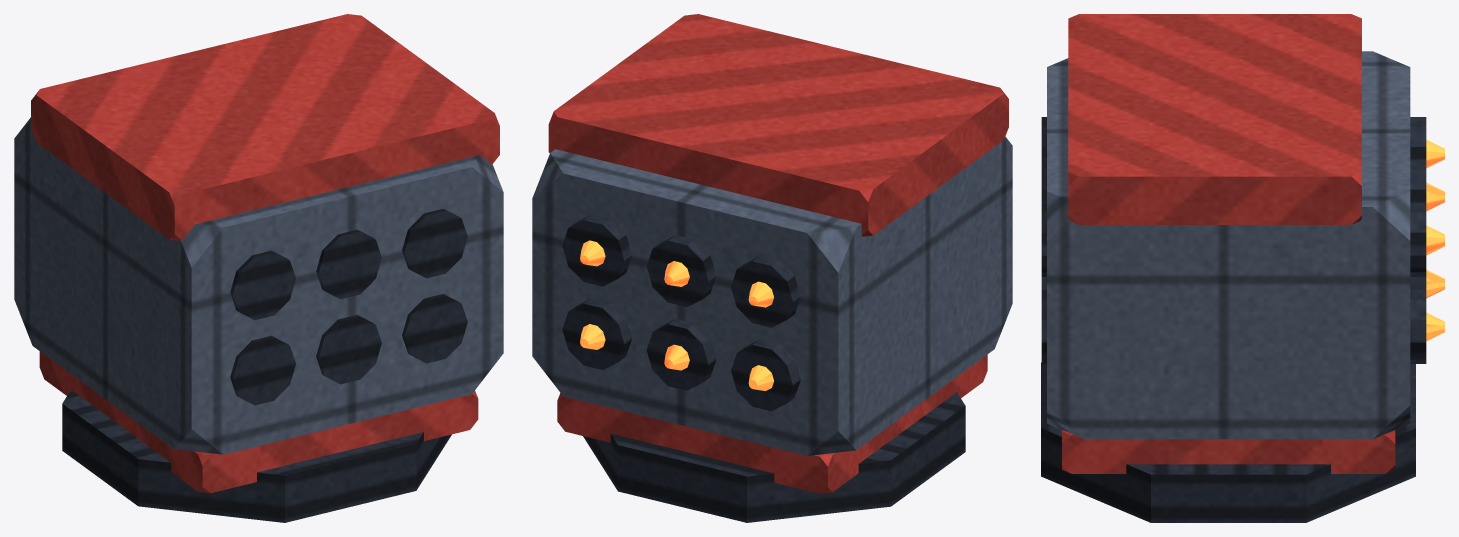
The model's file is eq_rocket_launcher.glb.
3 renders of one model, left to right at view 1: azimuth 30°, elevation 25°; view 2: azimuth 150°, elevation 25°; view 3: azimuth 270°, elevation 25°, orthographic. The views are drawn at different scales.
Parts seen in each view (by area): view 1: eq_rocket_launcher; view 2: eq_rocket_launcher; view 3: eq_rocket_launcher.
Part boxes in pixels (x1,y1,x2,y2): eq_rocket_launcher: (14, 14, 503, 522); eq_rocket_launcher: (532, 14, 1012, 522); eq_rocket_launcher: (1041, 14, 1444, 522).
Size of the model in its own units: 1.44 by 1.44 by 1.51.
1 material, 1 textured.
